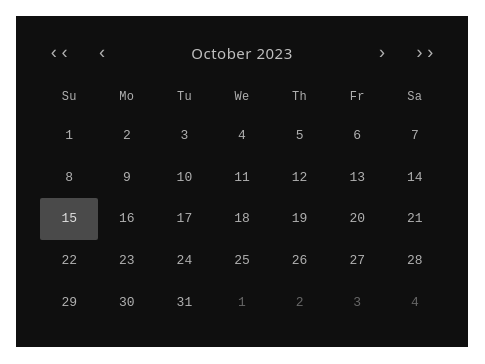
Test: Calendar using date-fns › navigates to previous month
Step 1. Click the button titled "Previous month" → (102, 53), box x1=86 y1=40 x2=118 y2=66
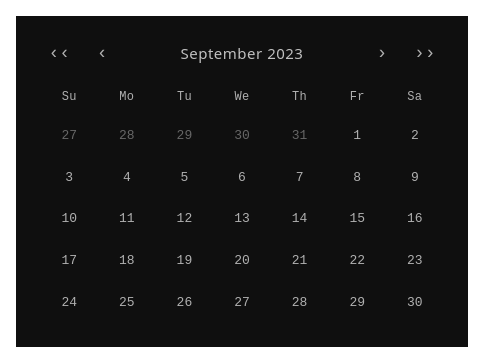
expect the text "September 2023" is shown: met, box x1=180 y1=43 x2=303 y2=63
